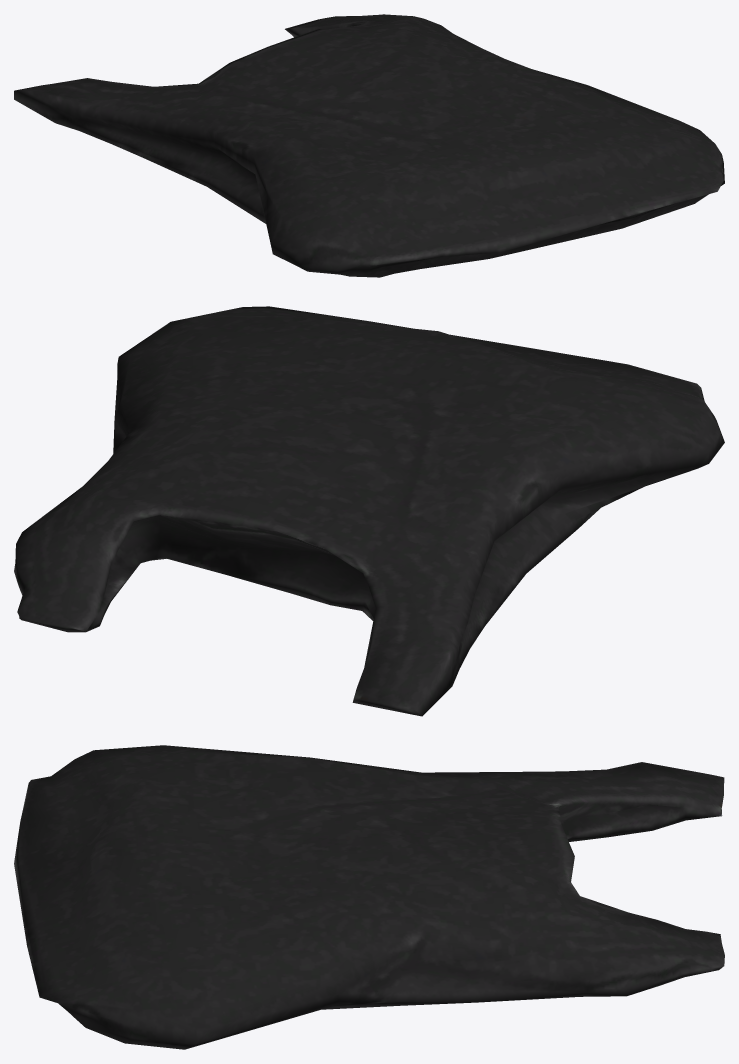
Rendered from trashPlasticBag02.FBX.
3 views of the same model, one above another, from view 1: azimuth 30°, elevation 25°; view 2: azimuth 150°, elevation 25°; view 3: azimuth 270°, elevation 25° (orthographic). The views are drawn at different scales.
Visible parts, largest first — view 1: SM_TrashPlasticBag02; view 2: SM_TrashPlasticBag02; view 3: SM_TrashPlasticBag02.
Boxes of the visible parts, left/top/right/bottom form: SM_TrashPlasticBag02: left=14, top=14, right=724, bottom=277; SM_TrashPlasticBag02: left=14, top=306, right=724, bottom=716; SM_TrashPlasticBag02: left=14, top=745, right=724, bottom=1049.
Bounding box in the file's own units: 34.7 × 5.26 × 38.82.
1 material, 1 textured.
